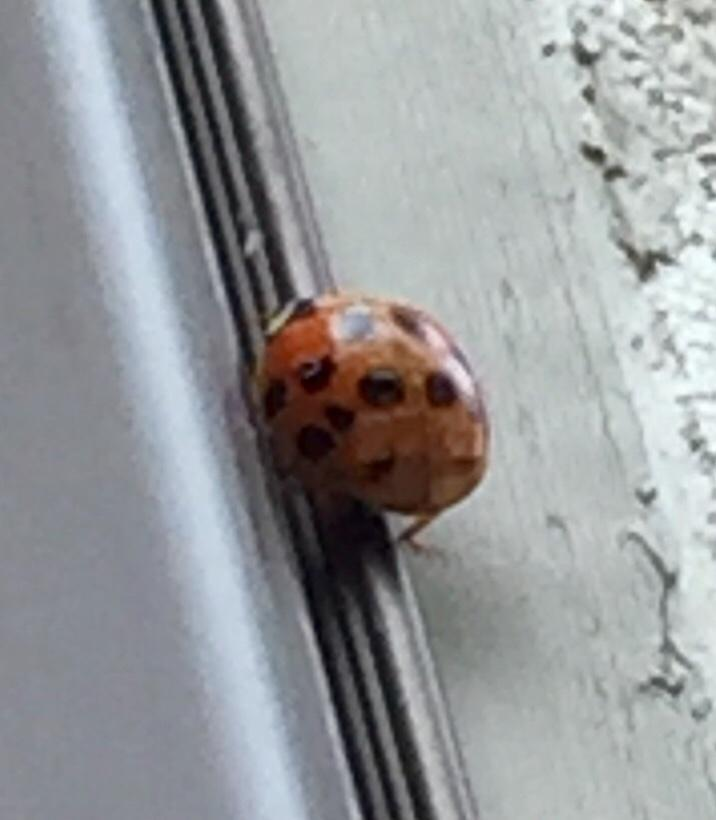ladybug: (254, 291, 494, 561)
